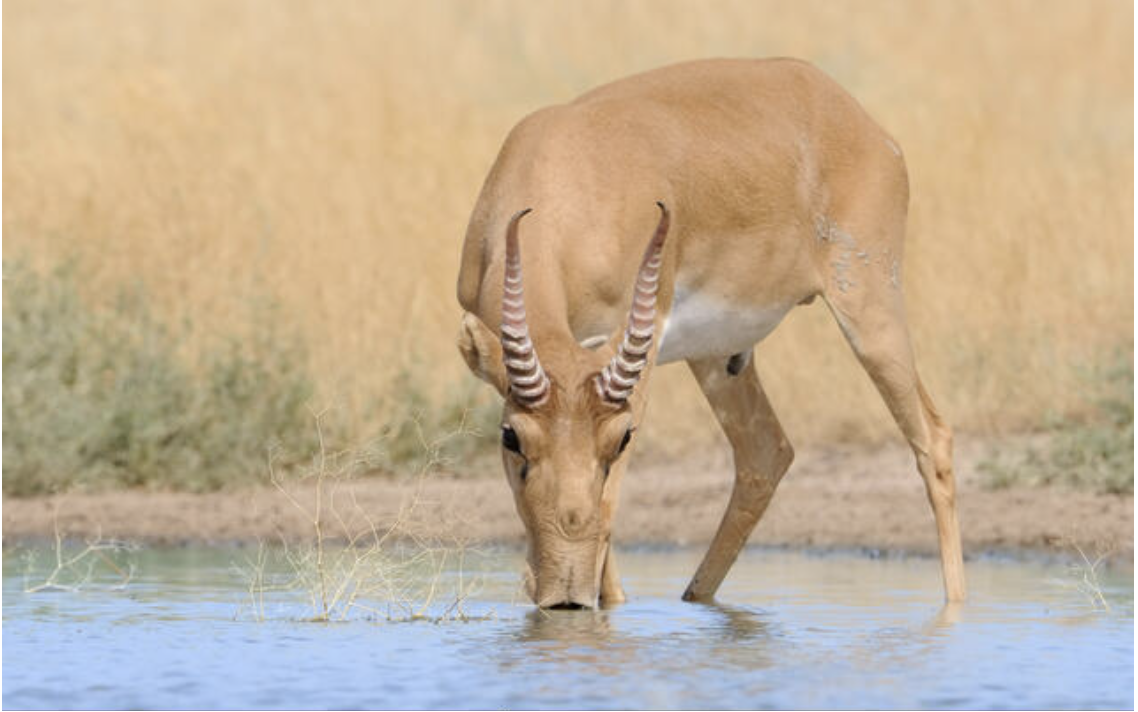saiga: (469, 48, 975, 612)
